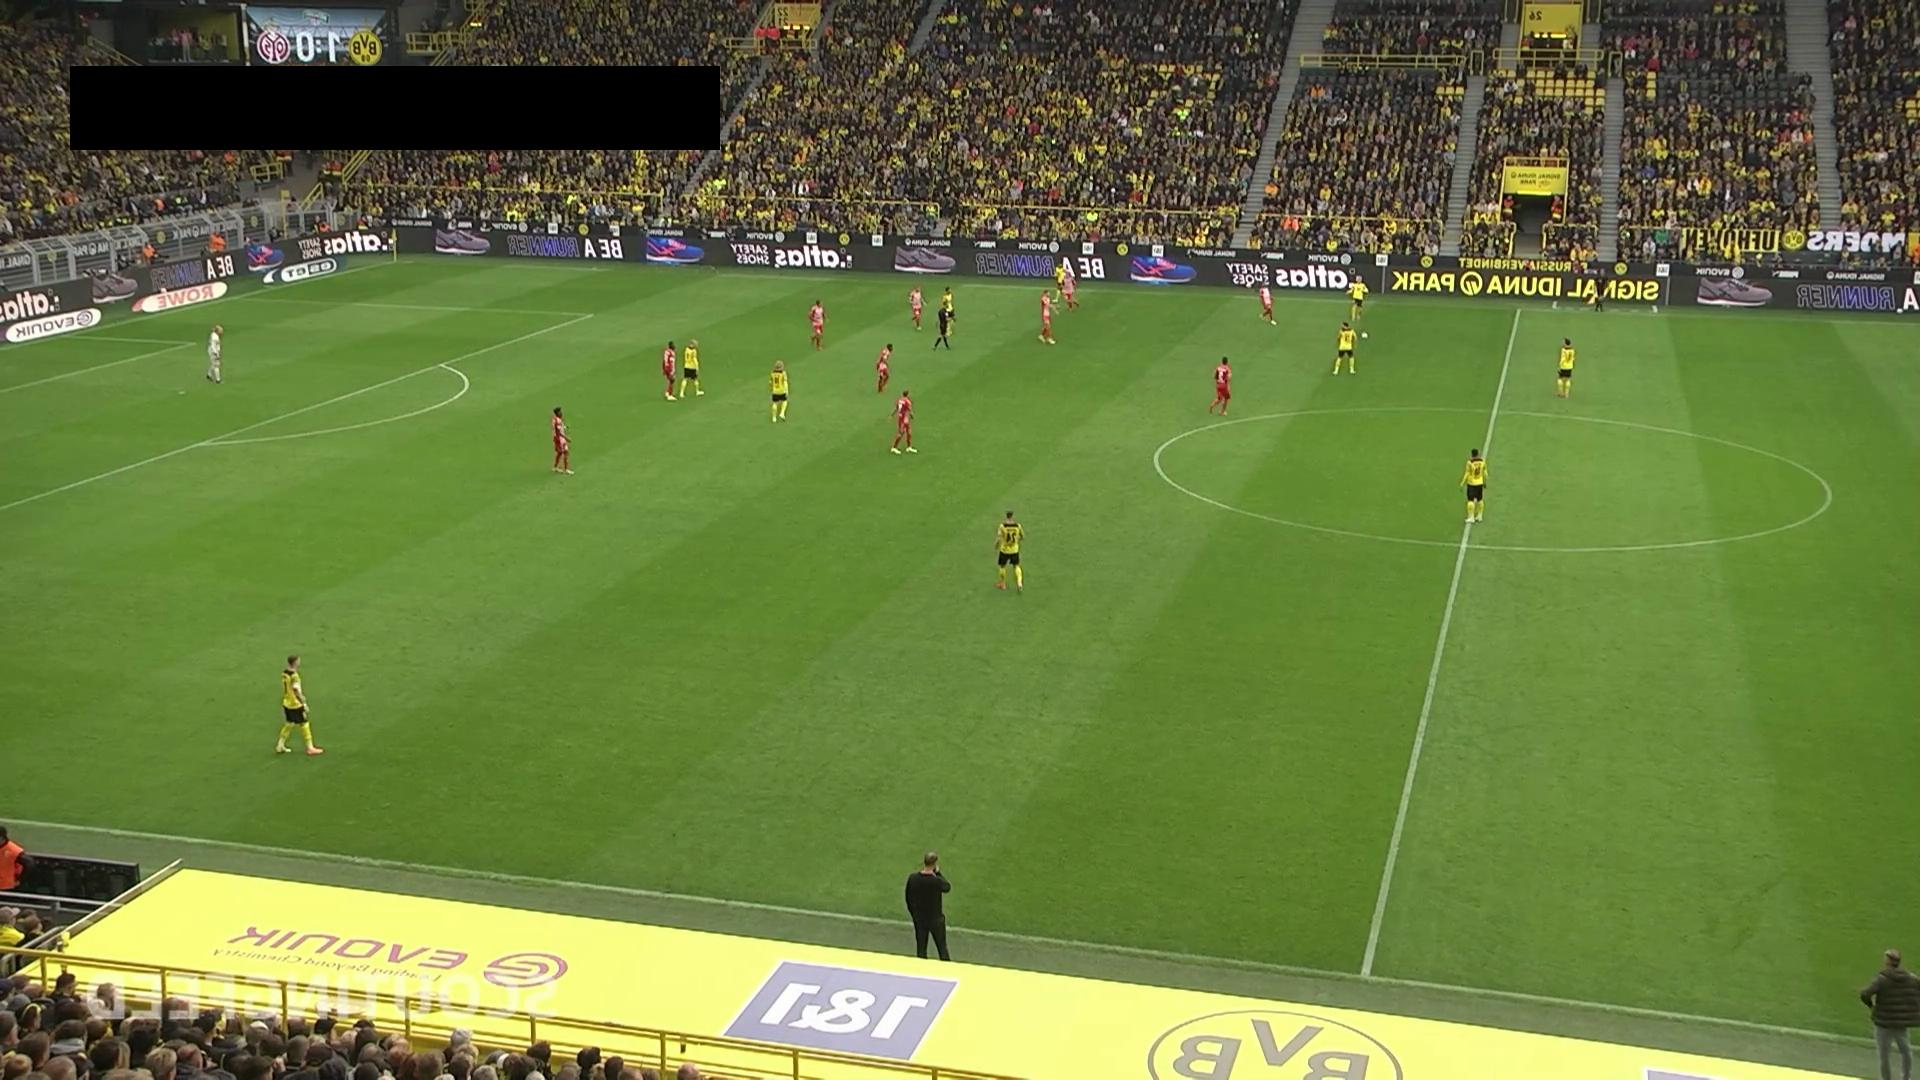ball: (1359, 328, 1370, 341)
goalkeeper: (206, 324, 223, 384)
player: (274, 654, 324, 756), (993, 509, 1026, 595), (1459, 447, 1488, 524), (889, 389, 917, 455), (551, 406, 575, 474), (1332, 320, 1358, 376), (680, 338, 704, 398), (768, 359, 790, 423), (1209, 355, 1232, 416), (936, 283, 958, 339), (1556, 337, 1576, 398), (1348, 272, 1369, 322), (1039, 289, 1057, 345), (808, 298, 827, 350), (662, 341, 678, 401), (875, 343, 893, 394), (1051, 262, 1072, 303), (1258, 281, 1277, 325), (909, 285, 926, 330), (1062, 271, 1080, 313)
referee: (933, 300, 954, 350), (1592, 266, 1609, 315)
